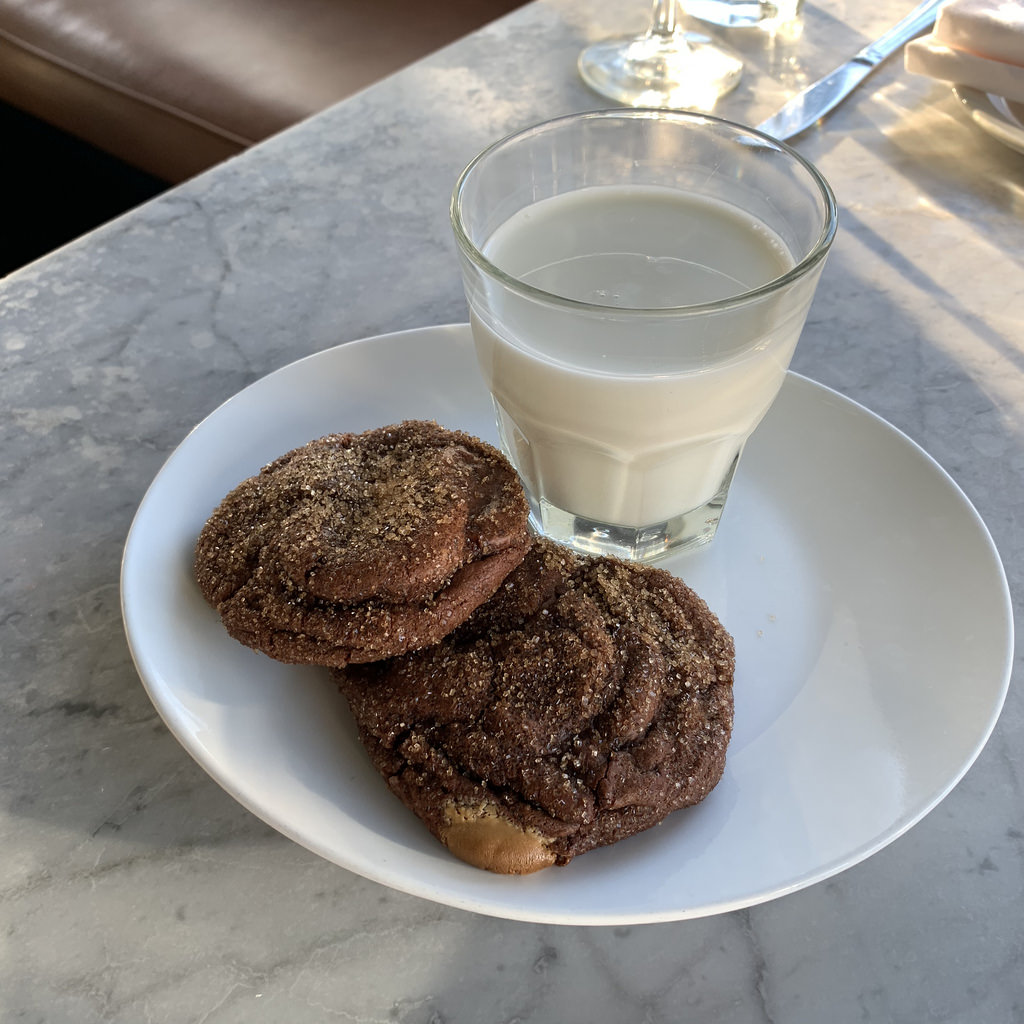glass of milk: (446, 123, 828, 559)
